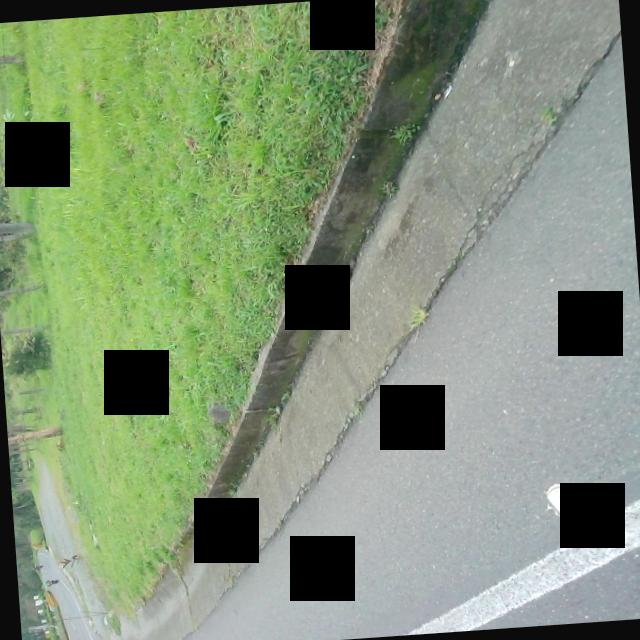DITCH: (32, 0, 640, 640), (74, 0, 640, 640), (105, 0, 640, 640)
